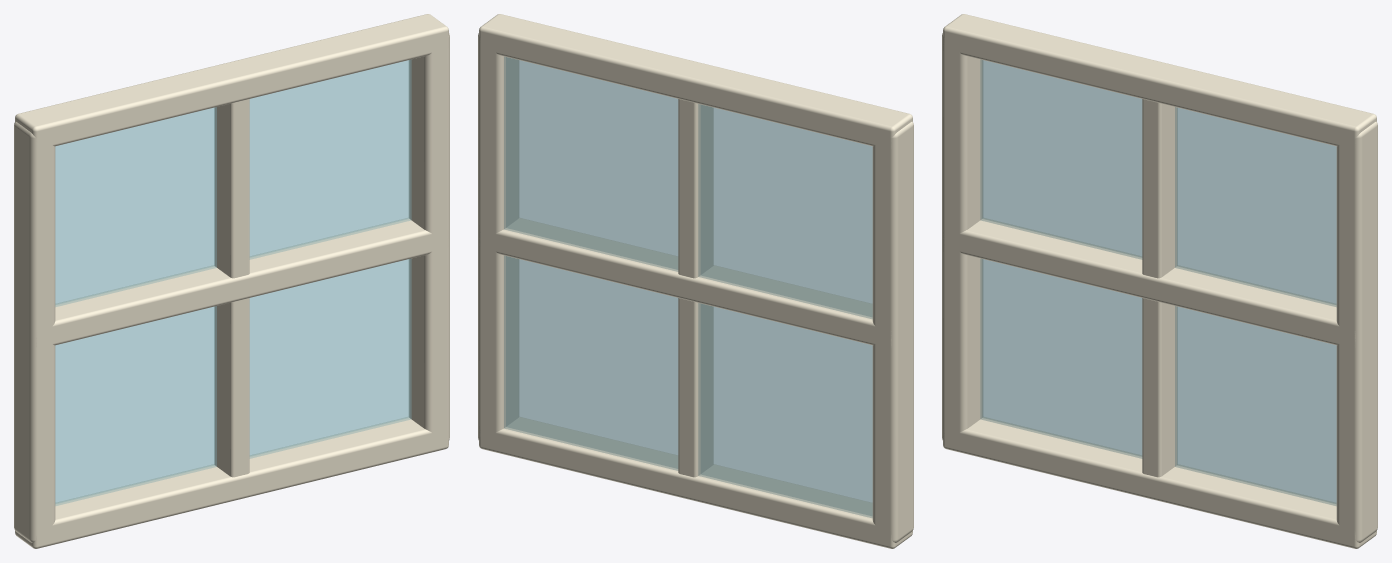
The model's file is Window_Frame.glb.
The picture shows the model from 3 angles, left to right: view 1: azimuth 30°, elevation 25°; view 2: azimuth 150°, elevation 25°; view 3: azimuth 330°, elevation 25°; orthographic projection.
Visible parts, largest first — view 1: Window_Frame; view 2: Window_Frame; view 3: Window_Frame.
Boxes of the visible parts, x1,y1,x2,y2 form: Window_Frame: [14, 14, 449, 548]; Window_Frame: [478, 14, 913, 548]; Window_Frame: [942, 14, 1377, 548].
Bounding box in the file's own units: 1.17 × 1.12 × 0.1.
